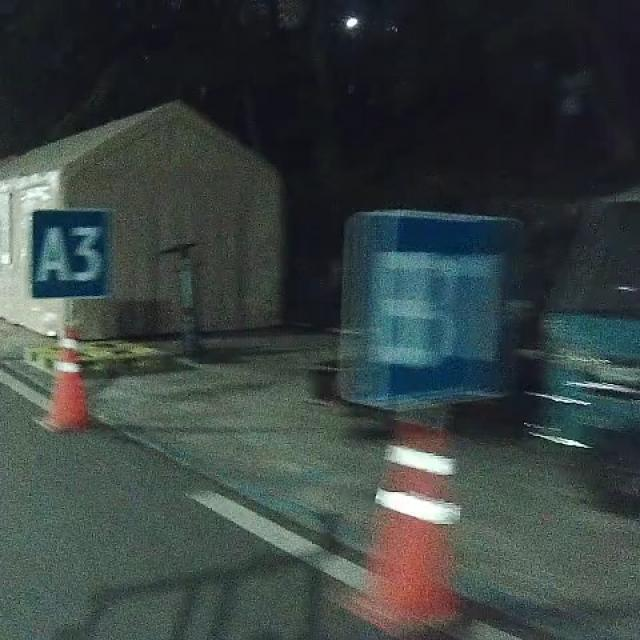a3: (22, 207, 112, 303)
